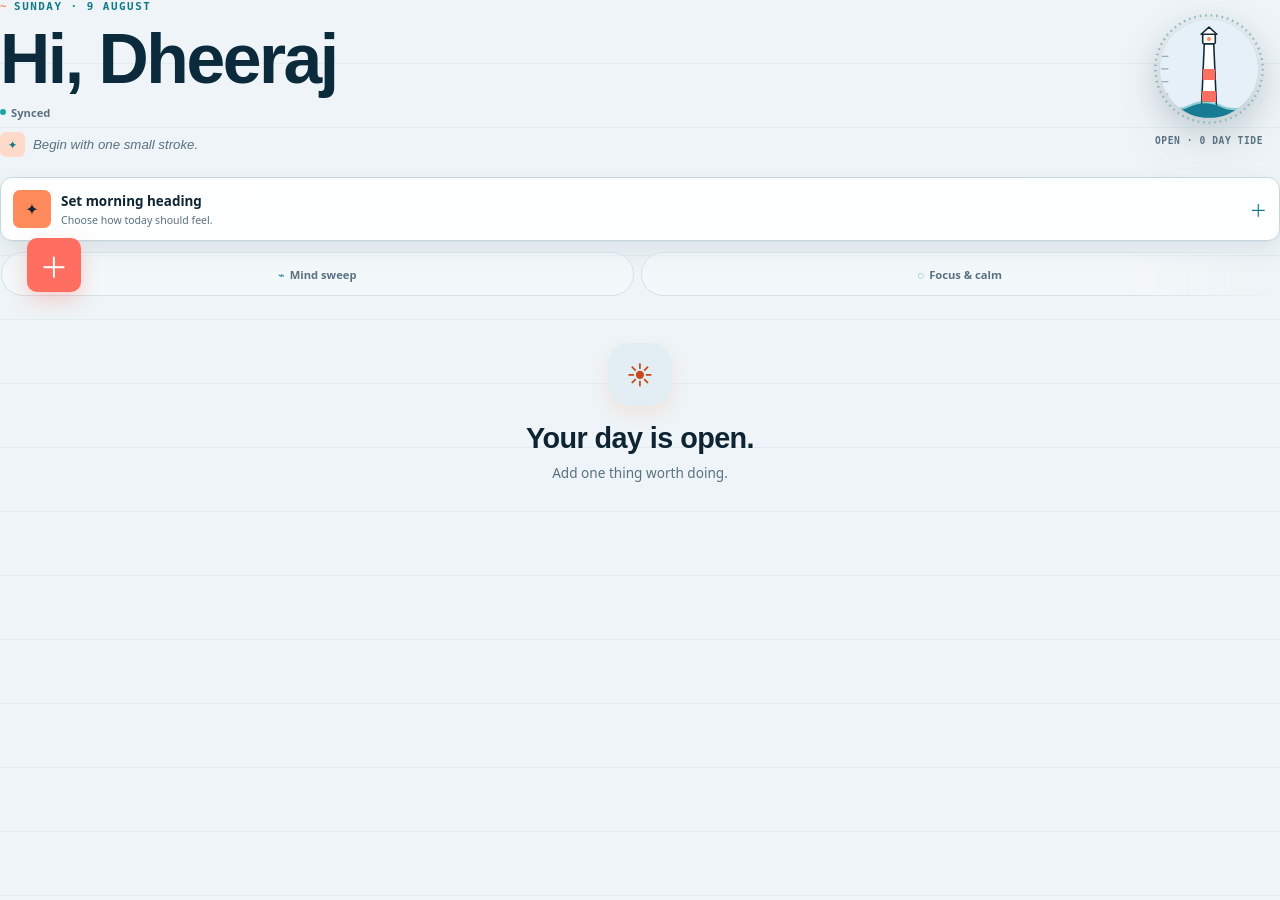
Test: opens focus and meditation without adding another main tab
Click the button "◌Focus & calm" at [960, 274], box [640,252,1279,296]
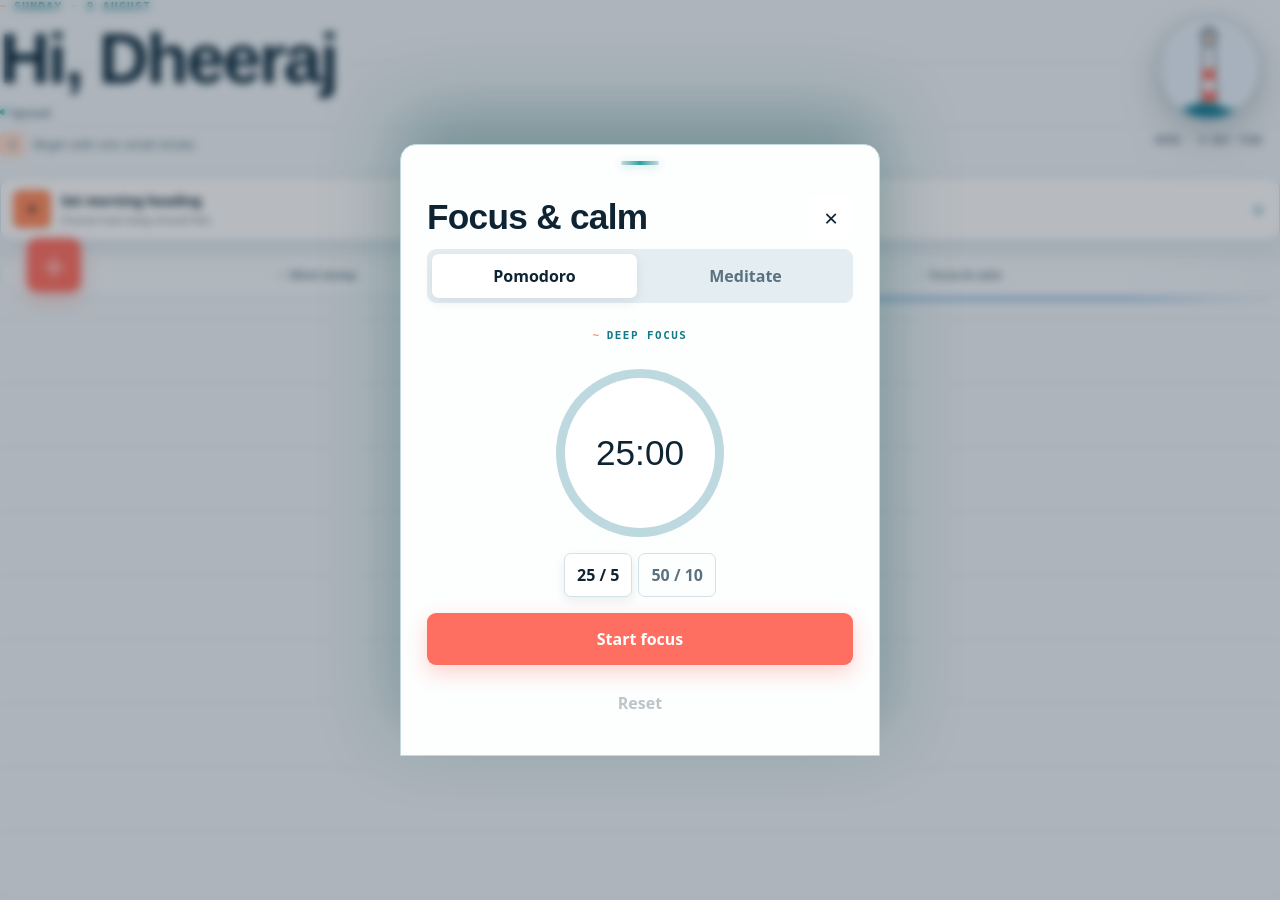
Check: the heading "Focus & calm" is shown, box [427,197,647,237]
Check: the button "Meditate" is shown, box [643,254,848,298]
